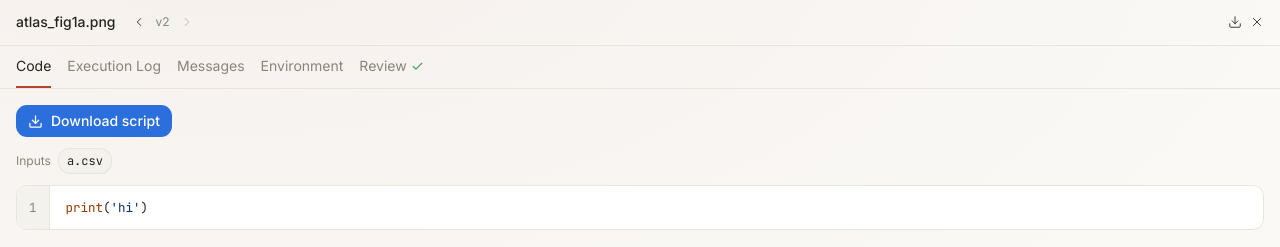
ArtifactInspector › shows the Code tab by default and switches tabs
The width and height of the screenshot is (1280, 247).
Expected: the button "Download script" is shown, [16,105,172,137]
Click the button "Execution Log".
click(114, 67)  # box [67,46,161,88]
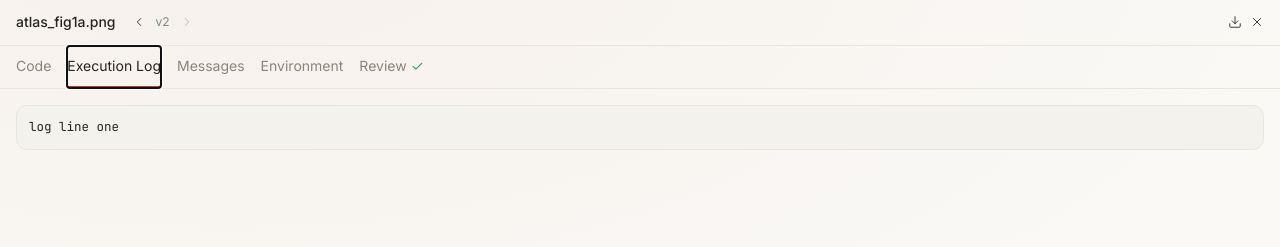
Expected: the text "log line one" is shown, [16,105,1264,150]
Click the button "Review".
click(391, 67)  # box [359,46,424,88]
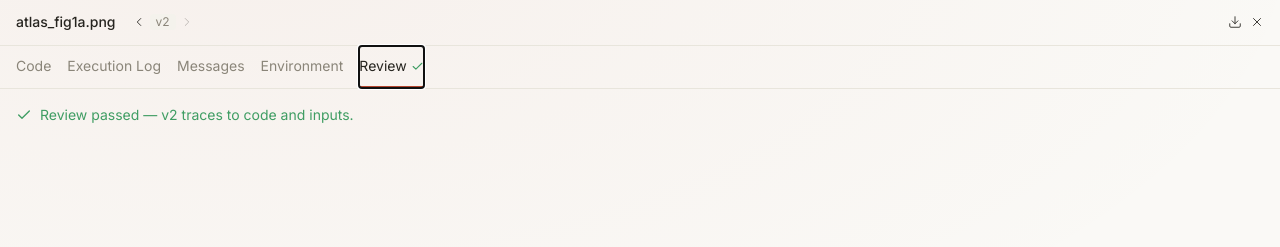
Expected: the text "Review passed — v2 traces to code and inputs." is shown, [16,106,354,123]
